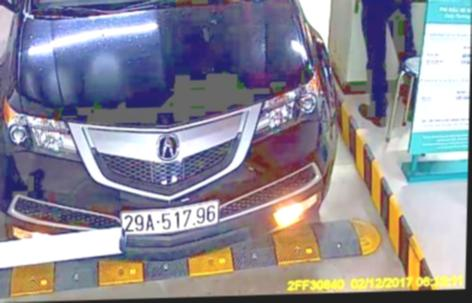License_Plate: (114, 201, 224, 235)
